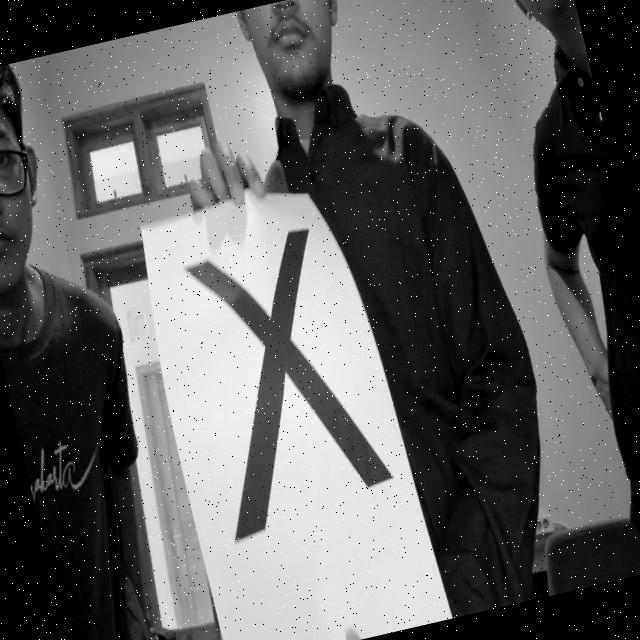x: (138, 173, 426, 597)
